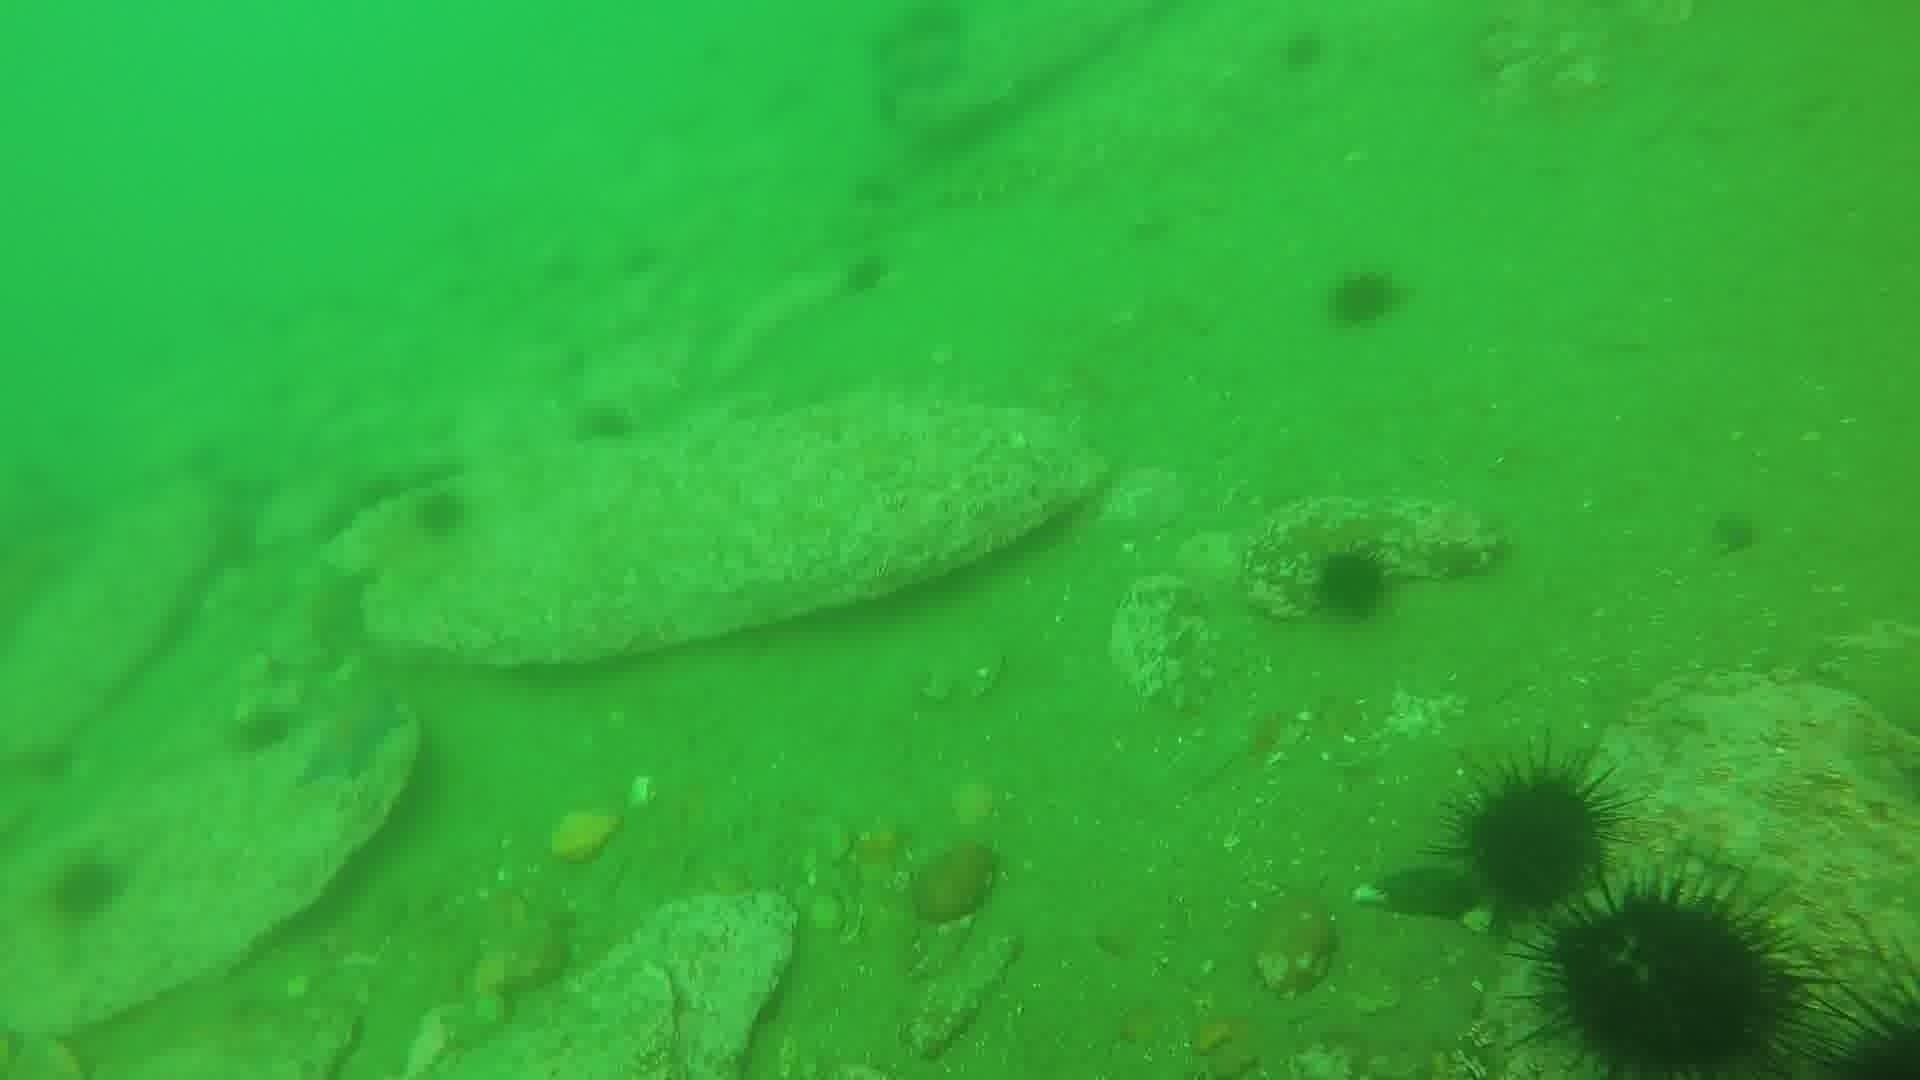echinus: (1514, 864, 1822, 1075), (1440, 752, 1633, 919), (1768, 920, 1919, 1075), (1308, 543, 1396, 625), (44, 851, 127, 927), (1323, 264, 1407, 334), (228, 702, 298, 760), (407, 484, 473, 543), (570, 396, 640, 451), (550, 342, 620, 397), (603, 231, 673, 286), (516, 233, 585, 287), (1705, 506, 1766, 560), (1273, 26, 1332, 78), (837, 249, 895, 299)
holothurian: (911, 140, 1060, 214)
starfish: (289, 680, 411, 793)
